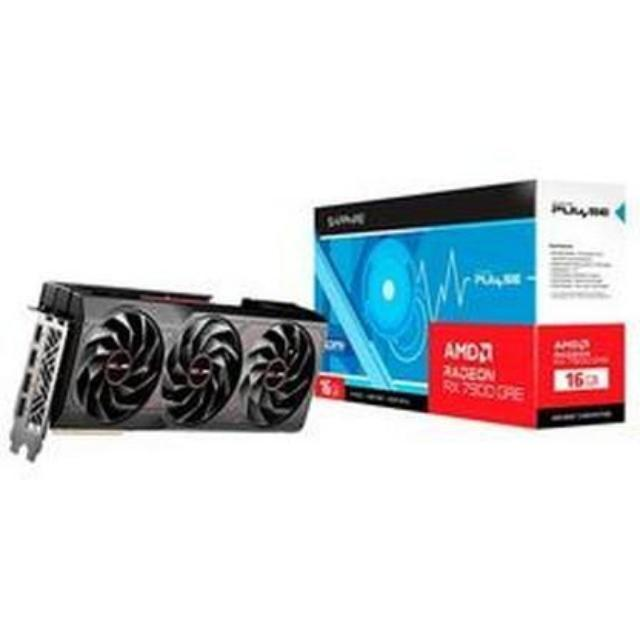GPU: (10, 277, 333, 463)
